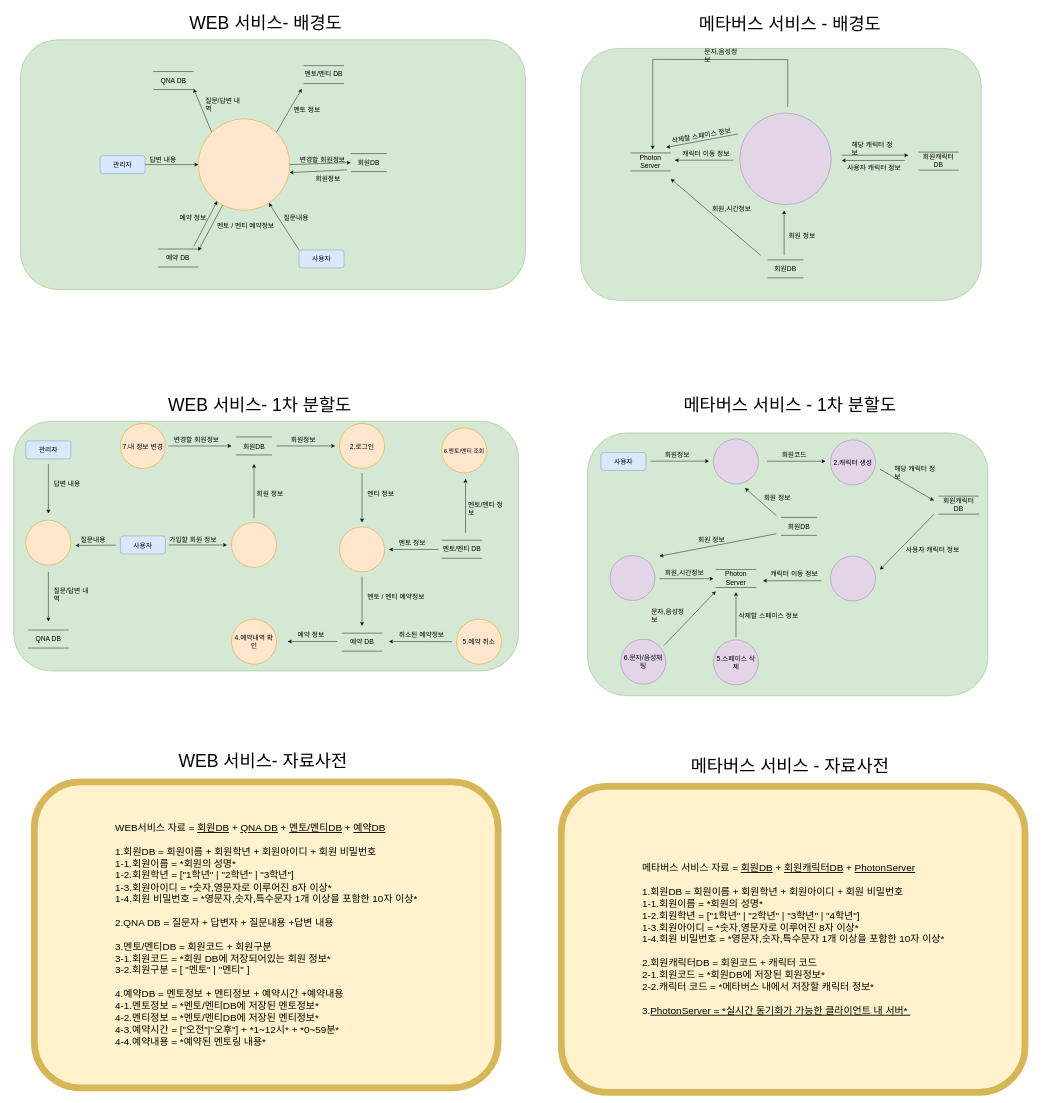
The diagram is 1049 pixels wide and 1103 high, and some of its shapes have lost their labels. The shapes that lost their labels are listed below. From the top down, each one's centre as x and y in pixels, then its label:
At [244,164]: "웹서비스 시스템".
At [785,159]: "메타버스 시스템".
At [735,461]: "1.로그인".
At [48,542]: "8.Q&A".
At [254,544]: "1.회원가입".
At [362,549]: "3.멘토링 신청".
At [632,578]: "4.스페이스 생성".
At [852,578]: "3.캐릭터 이동".
